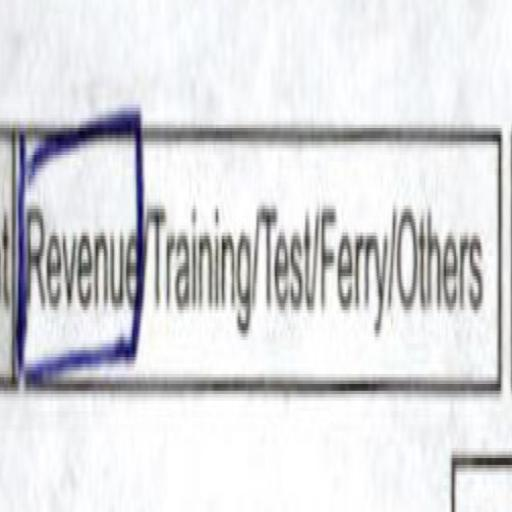check: (20, 68, 146, 454)
